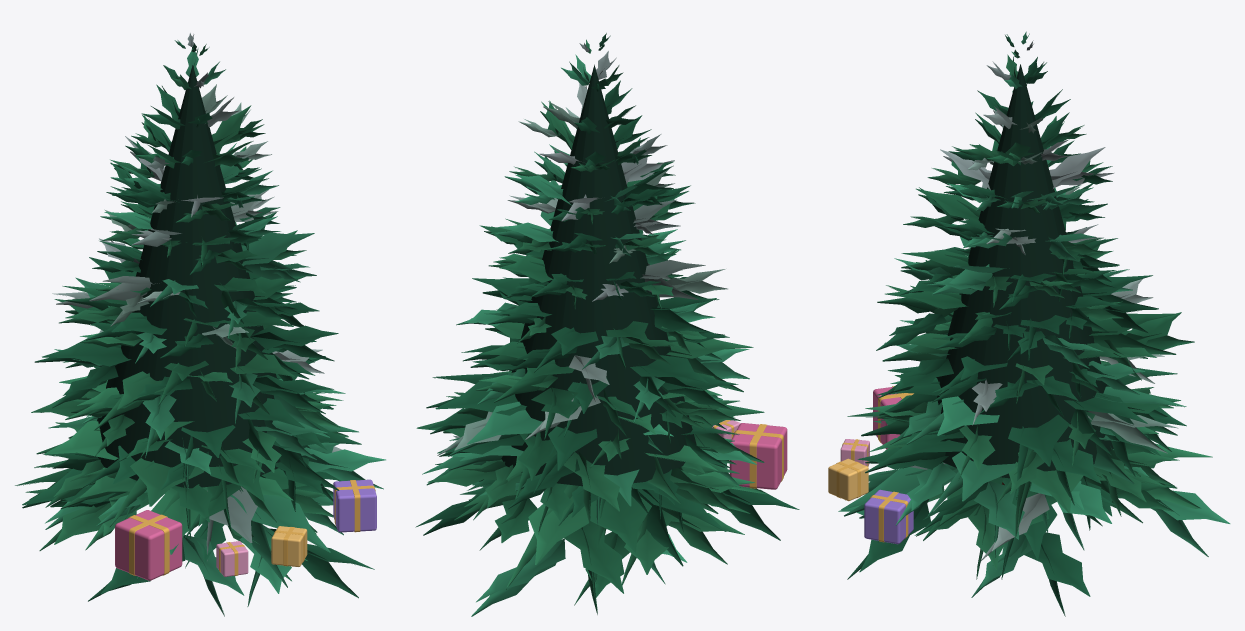
Rendered from christmas-tree.glb.
The picture shows the model from 3 angles, left to right: view 1: azimuth 30°, elevation 25°; view 2: azimuth 150°, elevation 25°; view 3: azimuth 270°, elevation 25°; orthographic projection.
Parts seen in each view (by area): view 1: boughs, core, present_0_box, present_1_box, present_2_box, present_3_box; view 2: boughs, core, present_0_box; view 3: boughs, core, present_1_box, present_2_box, present_0_box.
Part boxes in pixels (x1,y1,x2,y2): boughs: (15,33,385,616); core: (97,65,280,488); present_0_box: (115,510,182,580); present_1_box: (333,479,376,532); present_2_box: (271,526,307,566); present_3_box: (216,541,248,576); boughs: (415,33,799,616); core: (501,64,696,486); present_0_box: (729,423,787,489); boughs: (838,31,1230,616); core: (936,64,1113,478); present_1_box: (864,489,913,544); present_2_box: (828,458,868,501); present_0_box: (873,387,901,449).
Bounding box in the file's own units: 0.672 × 1.13 × 0.7749.
Materials: 18 (1 with a texture image).
